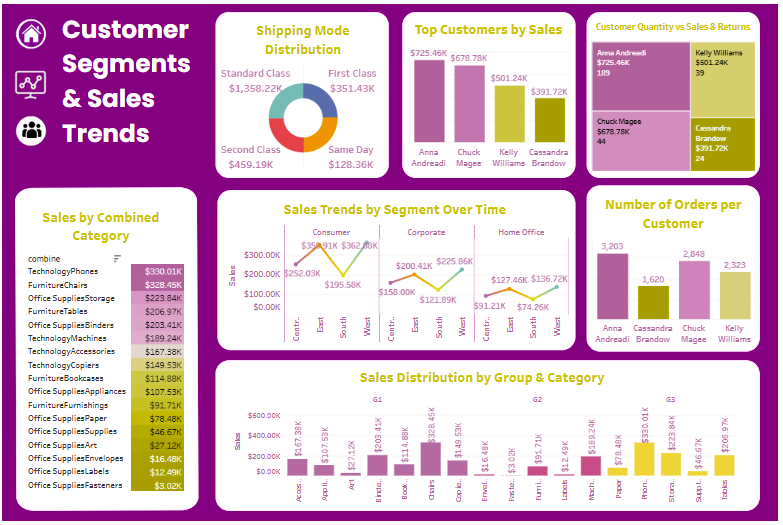

This screenshot's page, from the dashboard's own definition file:
{"tool":"tableau","page":{"name":"Customer Segments & Sales Trends Dashboard","canvas":[1200,800],"ordinal":0},"visuals":[{"type":"image","param":"Image/dash3.jpg","box":[8,8,1184,784]},{"type":"image","param":"Image/uyt-removebg-preview.png","box":[26,15,72,85]},{"type":"text","box":[108,18,216,223]},{"type":"worksheet","title":"People-sales","mark":"Automatic","rows":["Sales"],"cols":["Person"],"box":[628,30,243,230]},{"type":"worksheet","title":"People-quantity-sales-return","mark":"Automatic","box":[898,31,253,235]},{"type":"dashboard-object","box":[42,32,41,51]},{"type":"worksheet","title":"donut-ship mode","mark":"Automatic","cols":["Calculation_1055548461703760","Calculation_1055548461703760"],"box":[347,32,245,235]},{"type":"image","param":"Image/uyt-removebg-preview.png","box":[26,152,72,102]},{"type":"image","param":"Image/ert.png","box":[36,187,53,29]},{"type":"worksheet","title":"People-Orders","mark":"Automatic","rows":["Orders_FD4370BE63F149CF8FD8FDAD1BAA8EA6"],"cols":["Person"],"box":[903,293,244,232]},{"type":"worksheet","title":"line","mark":"Line","rows":["Sales"],"cols":["Segment","Region"],"box":[347,301,522,221]},{"type":"worksheet","title":"Combine","mark":"Square","rows":["Calculation_1055548782538815"],"box":[51,312,249,445]},{"type":"worksheet","title":"Group","mark":"Automatic","rows":["Sales"],"cols":["Sub-Category"],"box":[356,552,786,210]}]}

Visuals, with their boxes in screenshot pixels (x1, y1, x2, y2), scaled from the page's 1200x800 canvas onto the 783x525 screenshot:
image: [5, 5, 778, 520]
image: [17, 10, 64, 66]
text: [70, 12, 211, 158]
"People-sales" worksheet: [410, 20, 568, 171]
"People-quantity-sales-return" worksheet: [586, 20, 751, 175]
dashboard-object: [27, 21, 54, 54]
"donut-ship mode" worksheet: [226, 21, 386, 175]
image: [17, 100, 64, 167]
image: [23, 123, 58, 142]
"People-Orders" worksheet: [589, 192, 748, 345]
"line" worksheet (Line marks): [226, 198, 567, 343]
"Combine" worksheet (Square marks): [33, 205, 196, 497]
"Group" worksheet: [232, 362, 745, 500]
